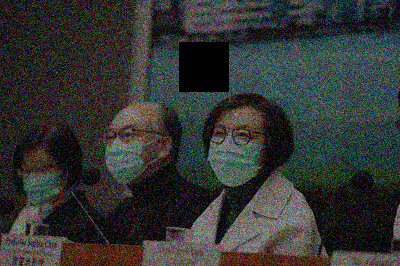with_mask: (206, 117, 267, 185), (102, 120, 159, 183), (17, 156, 67, 206)
